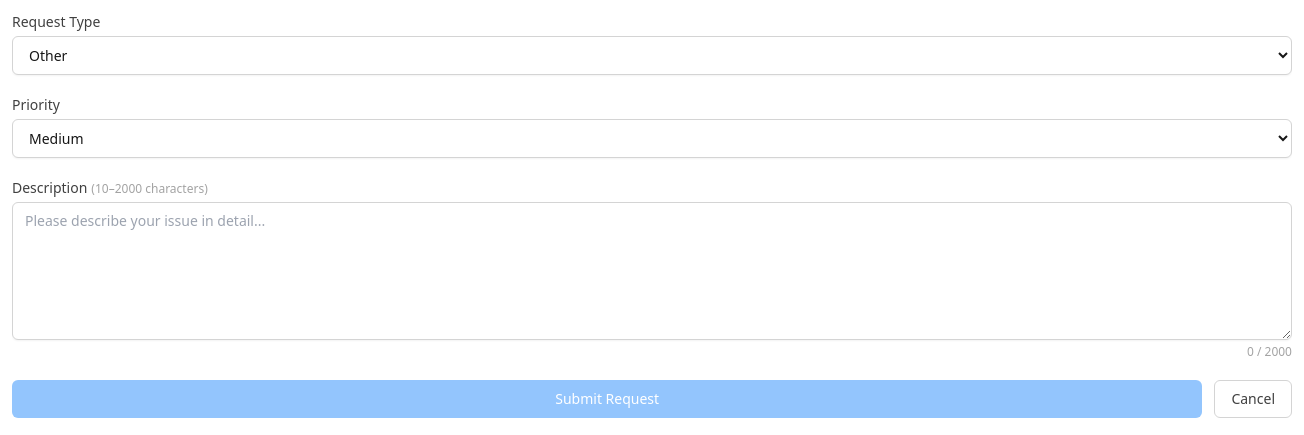
Test: NewRequestForm › submit button is enabled once description is long enough
Type "This is a valid description." into the text box labelled "Description(10–2000 characters)" at (652, 271), box x1=12 y1=202 x2=1292 y2=340
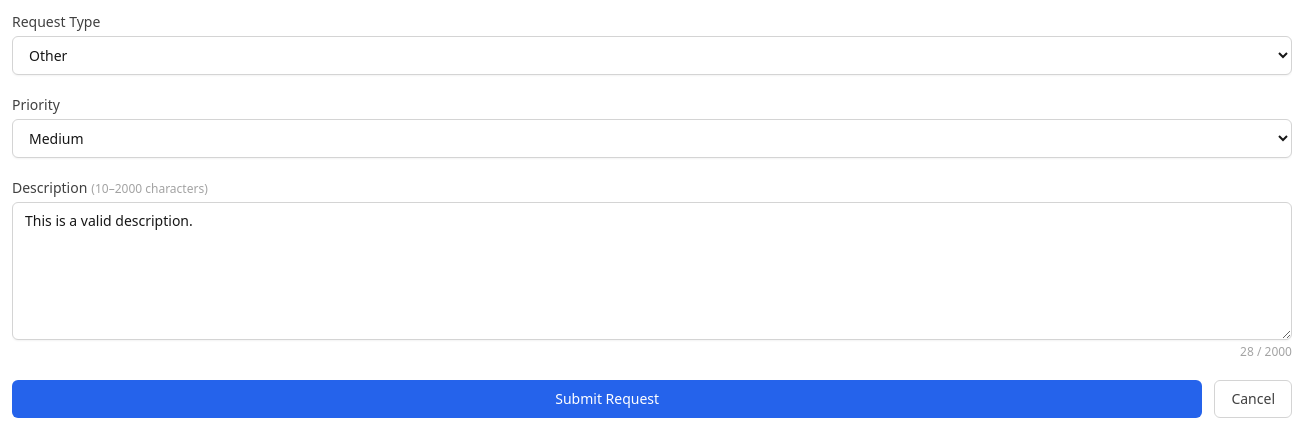
Expected: the button "Submit Request" is enabled, x1=12 y1=380 x2=1202 y2=418
